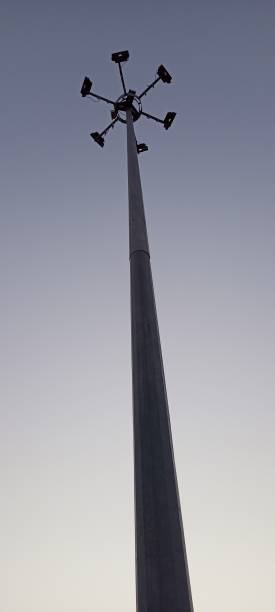light_pole: (115, 120, 194, 612)
